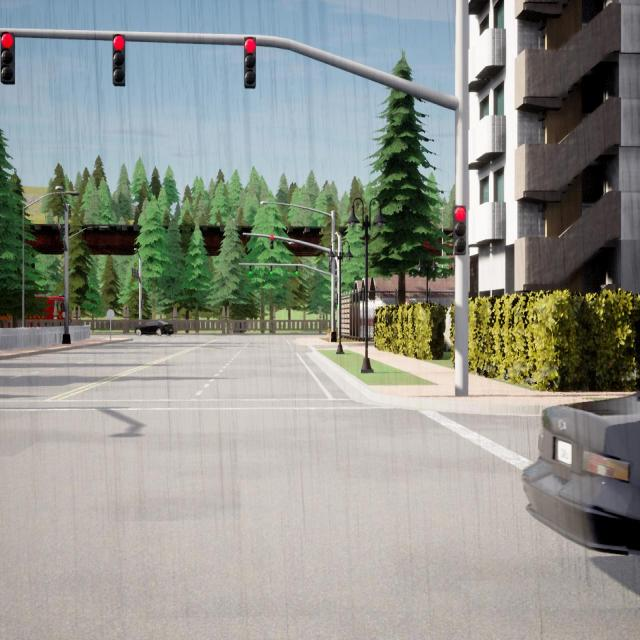Traffic_Signs: (107, 310, 114, 320)
Vehicle: (522, 392, 640, 554), (0, 297, 65, 328), (135, 320, 173, 336)
traffic_light: (1, 32, 14, 84), (113, 34, 125, 86), (244, 37, 256, 88), (454, 206, 466, 254), (60, 226, 65, 242), (270, 235, 274, 250), (249, 265, 251, 275), (270, 265, 272, 275), (336, 294, 338, 304), (140, 300, 142, 308), (296, 266, 298, 274), (134, 269, 136, 277), (136, 270, 138, 278), (132, 268, 133, 277)
